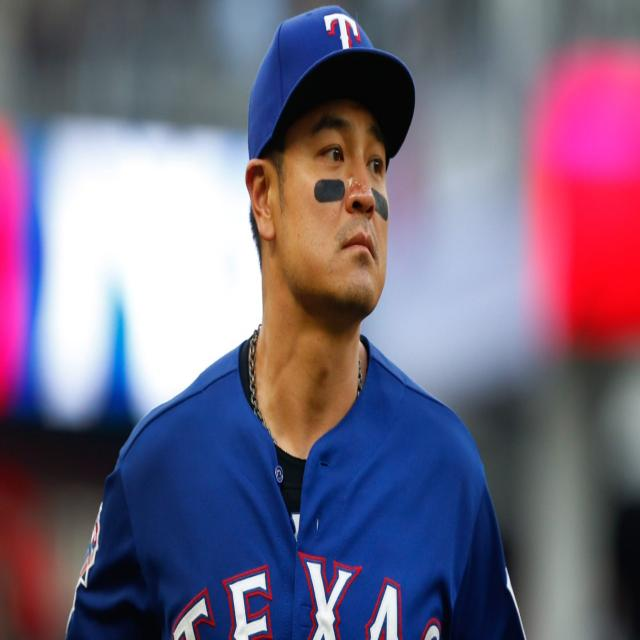Nonhelmet: (240, 5, 420, 328)
